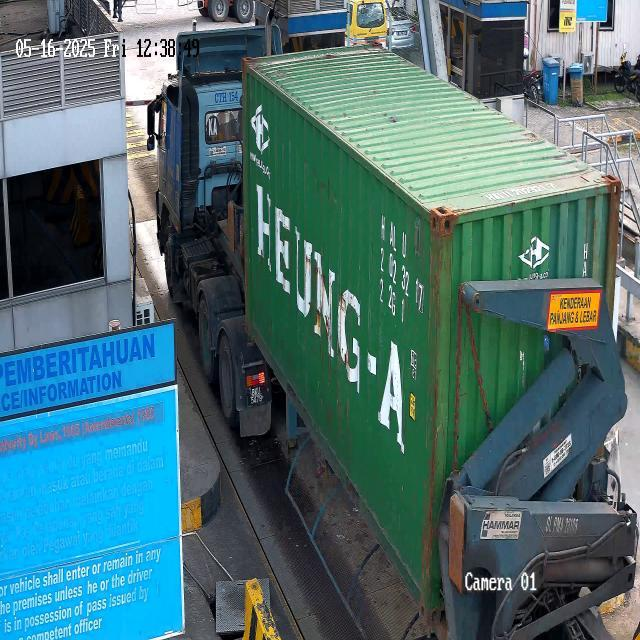ISO: (371, 272, 412, 324)
container_number: (378, 208, 431, 310)
